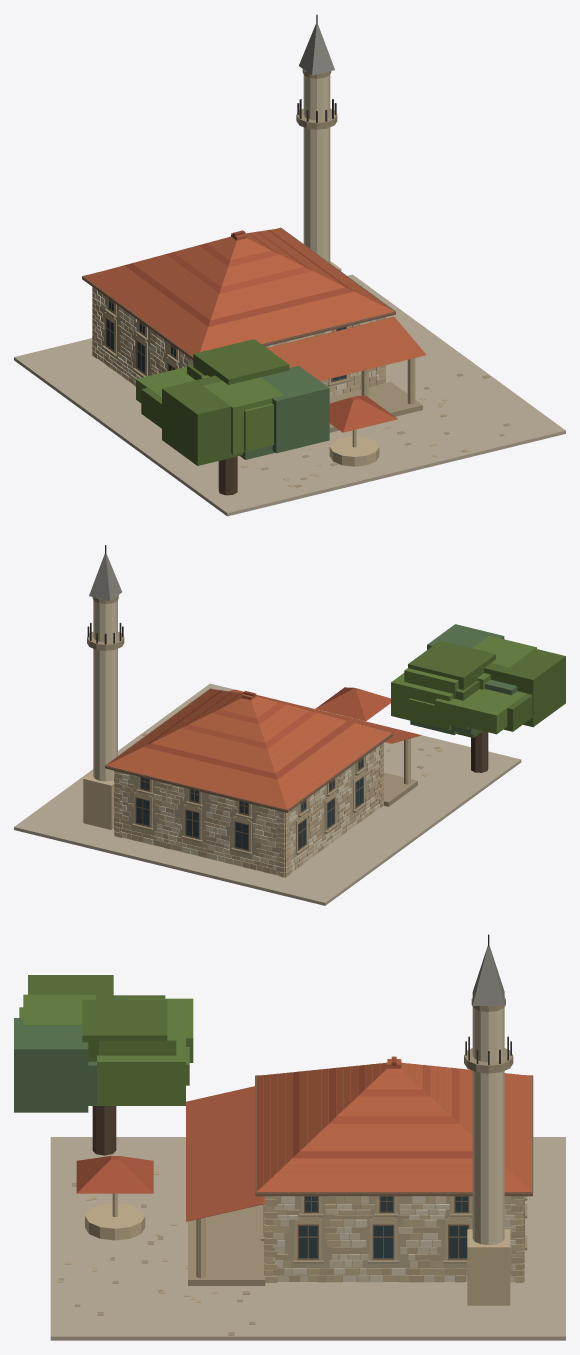
Rendered from merkez-camii.glb.
3 renders of one model, top to bottom at view 1: azimuth 30°, elevation 25°; view 2: azimuth 150°, elevation 25°; view 3: azimuth 270°, elevation 25°, orthographic. The views are drawn at different scales.
Parts seen in each view (by area): view 1: zemin, kiremit1, asma2, tas1, zeytin, asma, tas2, kiremit2, tas_koyu, kiremit4, ahsap, tas3 (+5 smaller); view 2: zemin, kiremit1, tas2, asma2, tas1, asma, harc, tas3, kiremit2, tas4, ahsap, tas_koyu (+5 smaller); view 3: zemin, kiremit1, tas2, tas1, asma, tas_koyu, zeytin, asma2, kiremit2, harc, tas3, ahsap (+5 smaller).
Boxes of the visible parts, x1,y1,x2,y2 form: zemin: [14, 274, 565, 516]; kiremit1: [82, 228, 426, 380]; asma2: [141, 339, 289, 465]; tas1: [95, 74, 379, 396]; zeytin: [240, 365, 329, 459]; asma: [136, 363, 284, 454]; tas2: [92, 261, 415, 466]; kiremit2: [166, 231, 397, 432]; tas_koyu: [102, 69, 510, 487]; kiremit4: [124, 230, 353, 326]; ahsap: [82, 227, 395, 382]; tas3: [92, 291, 470, 487]; zemin: [14, 683, 521, 905]; kiremit1: [104, 689, 421, 810]; tas2: [83, 718, 410, 877]; asma2: [408, 640, 565, 737]; tas1: [93, 600, 380, 875]; asma: [391, 635, 536, 734]; harc: [120, 755, 379, 873]; tas3: [114, 743, 443, 877]; kiremit2: [181, 687, 390, 748]; tas4: [119, 746, 382, 872]; ahsap: [105, 688, 393, 851]; tas_koyu: [87, 595, 440, 854]; zemin: [50, 1137, 565, 1340]; kiremit1: [186, 1059, 533, 1221]; tas2: [85, 1193, 524, 1305]; tas1: [264, 1007, 523, 1282]; asma: [19, 994, 193, 1105]; tas_koyu: [59, 997, 527, 1335]; zeytin: [14, 998, 128, 1112]; asma2: [28, 975, 167, 1061]; kiremit2: [76, 1065, 459, 1193]; harc: [273, 1196, 515, 1281]; tas3: [57, 1171, 524, 1302]; ahsap: [255, 1075, 532, 1259].
Bounding box in the file's own units: 24.54 × 18.8 × 25.71.
